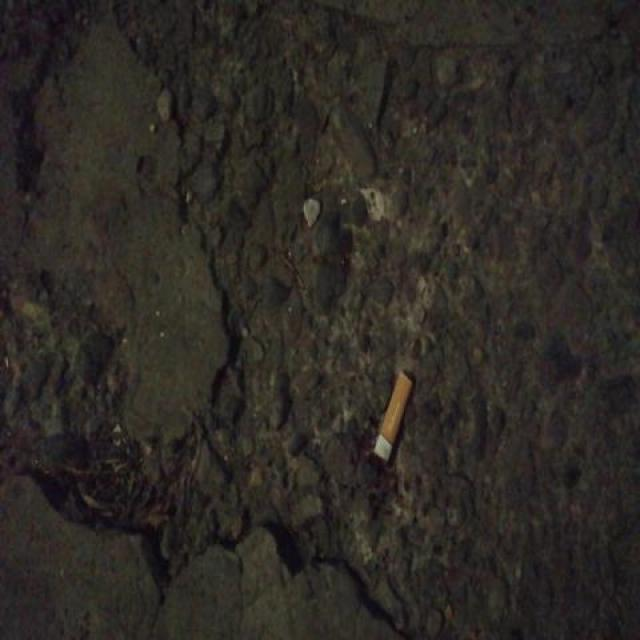non-organic waste: (371, 368, 413, 463)
